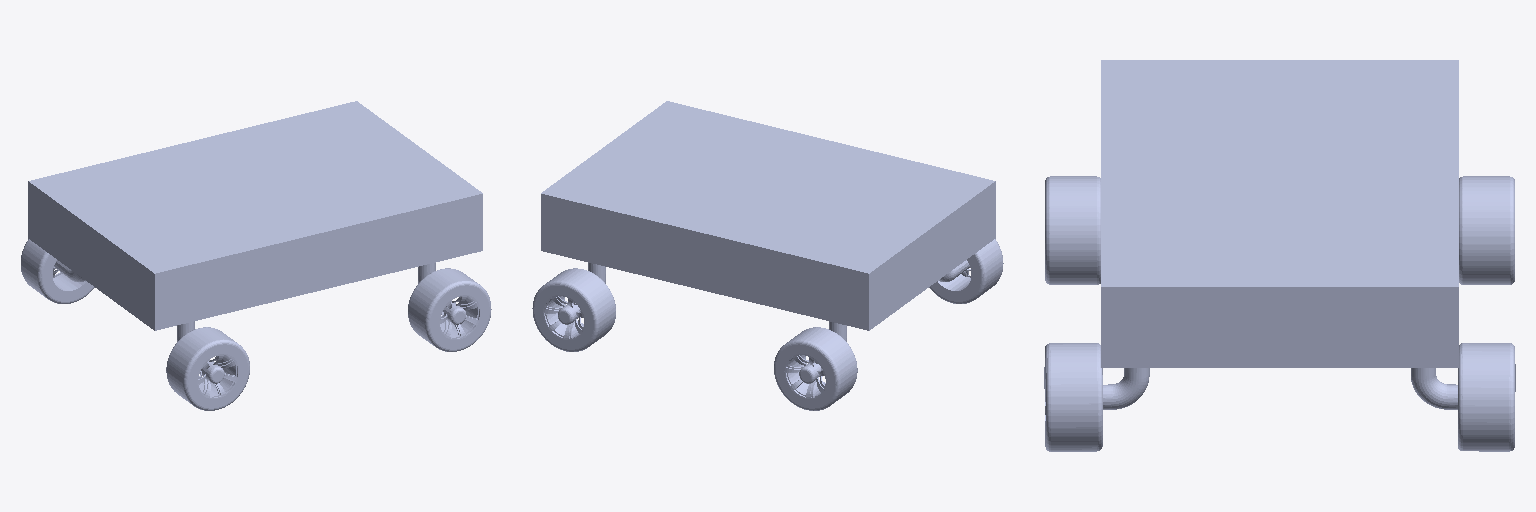
The robot description file, URDF, robot "warebot_v3":
<?xml version="1.0" encoding="utf-8"?>
<!-- This URDF was automatically created by SolidWorks to URDF Exporter! Originally created by [author] ([email redacted]) 
     Commit Version: 1.6.0-1-g15f4949  Build Version: 1.6.7594.29634
     For more information, please see http://wiki.ros.org/sw_urdf_exporter -->
<robot
  name="warebot_v3">

  <link name="dummy_link"/>
  <joint 
    name="dummy_joint"
    type="fixed">
    <parent link="dummy_link"/>
    <child link="chassis"/>
  </joint>

  <link
    name="chassis">
    <inertial>
      <origin
        xyz="1.1037613347761E-16 0.0635051315978042 1.11024456359132E-16"
        rpy="0 0 0" />
      <mass
        value="49.157010416797" />
      <inertia
        ixx="1.12311661391356"
        ixy="1.30727060789662E-20"
        ixz="2.31412048167835E-16"
        iyy="3.43549121757344"
        iyz="-2.81238691622772E-20"
        izz="2.44449761615106" />
    </inertial>
    <visual>
      <origin
        xyz="0 0 0"
        rpy="0 0 0" />
      <geometry>
        <mesh
          filename="package://gantry_assembly_v2/meshes_warebot/chassis.STL" />
      </geometry>
      <material
        name="">
        <color
          rgba="0.792156862745098 0.819607843137255 0.933333333333333 1" />
      </material>
    </visual>
    <collision>
      <origin
        xyz="0 0 0"
        rpy="0 0 0" />
      <geometry>
        <mesh
          filename="package://gantry_assembly_v2/meshes_warebot/chassis.STL" />
      </geometry>
    </collision>
  </link>
  <link
    name="FL_l_tube">
    <inertial>
      <origin
        xyz="-5.55111512312578E-17 0.0148002836453275 -0.0604712004643204"
        rpy="0 0 0" />
      <mass
        value="0.14194071579655" />
      <inertia
        ixx="0.000229149478932408"
        ixy="1.49607194308791E-19"
        ixz="-1.34889996850247E-19"
        iyy="0.000151692524544474"
        iyz="6.52289159453429E-05"
        izz="9.92694656968883E-05" />
    </inertial>
    <visual>
      <origin
        xyz="0 0 0"
        rpy="0 0 0" />
      <geometry>
        <mesh
          filename="package://gantry_assembly_v2/meshes_warebot/FL_l_tube.STL" />
      </geometry>
      <material
        name="">
        <color
          rgba="0.792156862745098 0.819607843137255 0.933333333333333 1" />
      </material>
    </visual>
    <collision>
      <origin
        xyz="0 0 0"
        rpy="0 0 0" />
      <geometry>
        <mesh
          filename="package://gantry_assembly_v2/meshes_warebot/FL_l_tube.STL" />
      </geometry>
    </collision>
  </link>
  <joint
    name="FL_steering"
    type="revolute">
    <origin
      xyz="0.2794 0.2032 0"
      rpy="0 0 -0.007573" />
    <parent
      link="chassis" />
    <child
      link="FL_l_tube" />
    <axis
      xyz="0 0 1" />
    <limit
      lower="-0.5"
      upper="0.5"
      effort="10"
      velocity="1" />
  </joint>
  <link
    name="FL_wheel">
    <inertial>
      <origin
        xyz="0.0411028122783708 -3.83577736240426E-09 4.17768467042556E-07"
        rpy="0 0 0" />
      <mass
        value="0.275264002606874" />
      <inertia
        ixx="0.000851891470975203"
        ixy="7.19021069992574E-11"
        ixz="-3.41421009668958E-09"
        iyy="0.000615421909910346"
        iyz="-5.15825319699796E-10"
        izz="0.000615421723011077" />
    </inertial>
    <visual>
      <origin
        xyz="0 0 0"
        rpy="0 0 0" />
      <geometry>
        <mesh
          filename="package://gantry_assembly_v2/meshes_warebot/FL_wheel.STL" />
      </geometry>
      <material
        name="">
        <color
          rgba="0.792156862745098 0.819607843137255 0.933333333333333 1" />
      </material>
    </visual>
    <collision>
      <origin
        xyz="0 0 0"
        rpy="0 0 0" />
      <geometry>
        <mesh
          filename="package://gantry_assembly_v2/meshes_warebot/FL_wheel.STL" />
      </geometry>
    </collision>
  </link>
  <joint
    name="FL_axle"
    type="continuous">
    <origin
      xyz="0 0.049027 -0.092456"
      rpy="1.7829 0 1.5708" />
    <parent
      link="FL_l_tube" />
    <child
      link="FL_wheel" />
    <axis
      xyz="1 0 0" />
  </joint>
  <link
    name="FR_l_tube">
    <inertial>
      <origin
        xyz="0 0.0148002836453276 -0.0604712004643204"
        rpy="0 0 0" />
      <mass
        value="0.14194071579655" />
      <inertia
        ixx="0.000229149478932408"
        ixy="8.15269211732264E-21"
        ixz="-1.45592007880557E-20"
        iyy="0.000151692524544474"
        iyz="6.52289159453429E-05"
        izz="9.92694656968883E-05" />
    </inertial>
    <visual>
      <origin
        xyz="0 0 0"
        rpy="0 0 0" />
      <geometry>
        <mesh
          filename="package://gantry_assembly_v2/meshes_warebot/FR_l_tube.STL" />
      </geometry>
      <material
        name="">
        <color
          rgba="0.792156862745098 0.819607843137255 0.933333333333333 1" />
      </material>
    </visual>
    <collision>
      <origin
        xyz="0 0 0"
        rpy="0 0 0" />
      <geometry>
        <mesh
          filename="package://gantry_assembly_v2/meshes_warebot/FR_l_tube.STL" />
      </geometry>
    </collision>
  </link>
  <joint
    name="FR_steering"
    type="revolute">
    <origin
      xyz="0.2794 -0.2032 0"
      rpy="0 0 -3.1291" />
    <parent
      link="chassis" />
    <child
      link="FR_l_tube" />
    <axis
      xyz="0 0 1" />
    <limit
      lower="-0.5"
      upper="0.5"
      effort="10"
      velocity="1" />
  </joint>
  <link
    name="FR_wheel">
    <inertial>
      <origin
        xyz="0.0431305701607207 -3.83577780649347E-09 4.17768443991551E-07"
        rpy="0 0 0" />
      <mass
        value="0.275264002606501" />
      <inertia
        ixx="0.000851891470974443"
        ixy="7.19021047027393E-11"
        ixz="-3.41420991737575E-09"
        iyy="0.0006154219099097"
        iyz="-5.15825319794573E-10"
        izz="0.00061542172301043" />
    </inertial>
    <visual>
      <origin
        xyz="0 0 0"
        rpy="0 0 0" />
      <geometry>
        <mesh
          filename="package://gantry_assembly_v2/meshes_warebot/FR_wheel.STL" />
      </geometry>
      <material
        name="">
        <color
          rgba="0.792156862745098 0.819607843137255 0.933333333333333 1" />
      </material>
    </visual>
    <collision>
      <origin
        xyz="0 0 0"
        rpy="0 0 0" />
      <geometry>
        <mesh
          filename="package://gantry_assembly_v2/meshes_warebot/FR_wheel.STL" />
      </geometry>
    </collision>
  </link>
  <joint
    name="FR_axle"
    type="continuous">
    <origin
      xyz="0 0.046999 -0.092456"
      rpy="0.056054 0 1.5708" />
    <parent
      link="FR_l_tube" />
    <child
      link="FR_wheel" />
    <axis
      xyz="1 0 0" />
  </joint>
  <link
    name="RL_l_tube">
    <inertial>
      <origin
        xyz="0 0.0148002836453275 -0.0604712004643204"
        rpy="0 0 0" />
      <mass
        value="0.14194071579655" />
      <inertia
        ixx="0.000229149478932408"
        ixy="2.85134999767632E-21"
        ixz="-8.71232048787394E-21"
        iyy="0.000151692524544474"
        iyz="6.52289159453429E-05"
        izz="9.92694656968883E-05" />
    </inertial>
    <visual>
      <origin
        xyz="0 0 0"
        rpy="0 0 0" />
      <geometry>
        <mesh
          filename="package://gantry_assembly_v2/meshes_warebot/RL_l_tube.STL" />
      </geometry>
      <material
        name="">
        <color
          rgba="0.792156862745098 0.819607843137255 0.933333333333333 1" />
      </material>
    </visual>
    <collision>
      <origin
        xyz="0 0 0"
        rpy="0 0 0" />
      <geometry>
        <mesh
          filename="package://gantry_assembly_v2/meshes_warebot/RL_l_tube.STL" />
      </geometry>
    </collision>
  </link>
  <joint
    name="RL_steering"
    type="fixed">
    <origin
      xyz="-0.2794 0.2032 0"
      rpy="0 0 0" />
    <parent
      link="chassis" />
    <child
      link="RL_l_tube" />
    <axis
      xyz="0 0 0" />
  </joint>
  <link
    name="RL_wheel">
    <inertial>
      <origin
        xyz="0.0411074735746797 4.05959945992684E-07 9.87001973762336E-08"
        rpy="0 0 0" />
      <mass
        value="0.27526400260683" />
      <inertia
        ixx="0.000851891684215684"
        ixy="-3.30999578626669E-09"
        ixz="-7.90615717446464E-10"
        iyy="0.000615421614267171"
        iyz="4.26776186601956E-10"
        izz="0.000615422031419858" />
    </inertial>
    <visual>
      <origin
        xyz="0 0 0"
        rpy="0 0 0" />
      <geometry>
        <mesh
          filename="package://gantry_assembly_v2/meshes_warebot/RL_wheel.STL" />
      </geometry>
      <material
        name="">
        <color
          rgba="0.792156862745098 0.819607843137255 0.933333333333333 1" />
      </material>
    </visual>
    <collision>
      <origin
        xyz="0 0 0"
        rpy="0 0 0" />
      <geometry>
        <mesh
          filename="package://gantry_assembly_v2/meshes_warebot/RL_wheel.STL" />
      </geometry>
    </collision>
  </link>
  <joint
    name="RL_axle"
    type="continuous">
    <origin
      xyz="0 0.049022 -0.092456"
      rpy="2.2415 0 1.5708" />
    <parent
      link="RL_l_tube" />
    <child
      link="RL_wheel" />
    <axis
      xyz="1 0 0" />
  </joint>
  <link
    name="RR_l_tube">
    <inertial>
      <origin
        xyz="0 0.0148002836453276 -0.0604712004643204"
        rpy="0 0 0" />
      <mass
        value="0.14194071579655" />
      <inertia
        ixx="0.000229149478932408"
        ixy="-2.41399252769946E-20"
        ixz="-7.41770358269228E-21"
        iyy="0.000151692524544474"
        iyz="6.52289159453429E-05"
        izz="9.92694656968882E-05" />
    </inertial>
    <visual>
      <origin
        xyz="0 0 0"
        rpy="0 0 0" />
      <geometry>
        <mesh
          filename="package://gantry_assembly_v2/meshes_warebot/RR_l_tube.STL" />
      </geometry>
      <material
        name="">
        <color
          rgba="0.792156862745098 0.819607843137255 0.933333333333333 1" />
      </material>
    </visual>
    <collision>
      <origin
        xyz="0 0 0"
        rpy="0 0 0" />
      <geometry>
        <mesh
          filename="package://gantry_assembly_v2/meshes_warebot/RR_l_tube.STL" />
      </geometry>
    </collision>
  </link>
  <joint
    name="RR_steering"
    type="fixed">
    <origin
      xyz="-0.2794 -0.2032 0"
      rpy="0 0 3.1416" />
    <parent
      link="chassis" />
    <child
      link="RR_l_tube" />
    <axis
      xyz="0 0 0" />
  </joint>
  <link
    name="RR_wheel">
    <inertial>
      <origin
        xyz="0.0411074735746949 2.81471280116907E-07 -3.08738005855291E-07"
        rpy="0 0 0" />
      <mass
        value="0.275264002606999" />
      <inertia
        ixx="0.00085189147097577"
        ixy="-2.33054081404338E-09"
        ixz="2.49611342112908E-09"
        iyy="0.000615422339452627"
        iyz="3.58955588370584E-11"
        izz="0.000615421293469637" />
    </inertial>
    <visual>
      <origin
        xyz="0 0 0"
        rpy="0 0 0" />
      <geometry>
        <mesh
          filename="package://gantry_assembly_v2/meshes_warebot/RR_wheel.STL" />
      </geometry>
      <material
        name="">
        <color
          rgba="0.792156862745098 0.819607843137255 0.933333333333333 1" />
      </material>
    </visual>
    <collision>
      <origin
        xyz="0 0 0"
        rpy="0 0 0" />
      <geometry>
        <mesh
          filename="package://gantry_assembly_v2/meshes_warebot/RR_wheel.STL" />
      </geometry>
    </collision>
  </link>
  <joint
    name="RR_axle"
    type="continuous">
    <origin
      xyz="0 0.049022 -0.092456"
      rpy="-1.9358 0 1.5708" />
    <parent
      link="RR_l_tube" />
    <child
      link="RR_wheel" />
    <axis
      xyz="1 0 0" />
  </joint>

  <transmission name="trans_1">
    <type>transmission_interface/SimpleTransmission</type>
    <joint name="FL_steering">
      <hardwareInterface>hardware_interface/EffortJointInterface</hardwareInterface>
    </joint>
    <actuator name="Fleft_steering">
      <mechanicalReduction>1</mechanicalReduction>
      <hardwareInterface>hardware_interface/EffortJointInterface</hardwareInterface>
    </actuator>
  </transmission>

  <transmission name="trans_2">
    <type>transmission_interface/SimpleTransmission</type>
    <joint name="FR_steering">
      <hardwareInterface>hardware_interface/EffortJointInterface</hardwareInterface>
    </joint>
    <actuator name="Fright_steering">
      <mechanicalReduction>1</mechanicalReduction>
      <hardwareInterface>hardware_interface/EffortJointInterface</hardwareInterface>
    </actuator>
  </transmission>

  <!-- <transmission name="trans_5">
    <type>transmission_interface/SimpleTransmission</type>
    <joint name="FR_axle">
      <hardwareInterface>hardware_interface/VelocityJointInterface</hardwareInterface>
    </joint>
    <actuator name="FR_drive">
      <mechanicalReduction>1</mechanicalReduction>
      <hardwareInterface>hardware_interface/VelocityJointInterface</hardwareInterface>
    </actuator>
  </transmission>

  <transmission name="trans_6">
    <type>transmission_interface/SimpleTransmission</type>
    <joint name="FL_axle">
      <hardwareInterface>hardware_interface/VelocityJointInterface</hardwareInterface>
    </joint>
    <actuator name="FL_drive">
      <mechanicalReduction>1</mechanicalReduction>
      <hardwareInterface>hardware_interface/VelocityJointInterface</hardwareInterface>
    </actuator>
  </transmission> -->

  <transmission name="trans_7">
    <type>transmission_interface/SimpleTransmission</type>
    <joint name="RR_axle">
      <hardwareInterface>hardware_interface/VelocityJointInterface</hardwareInterface>
    </joint>
    <actuator name="RR_drive">
      <mechanicalReduction>1</mechanicalReduction>
      <hardwareInterface>hardware_interface/VelocityJointInterface</hardwareInterface>
    </actuator>
  </transmission>

  <transmission name="trans_8">
    <type>transmission_interface/SimpleTransmission</type>
    <joint name="RL_axle">
      <hardwareInterface>hardware_interface/VelocityJointInterface</hardwareInterface>
    </joint>
    <actuator name="RL_drive">
      <mechanicalReduction>1</mechanicalReduction>
      <hardwareInterface>hardware_interface/VelocityJointInterface</hardwareInterface>
    </actuator>
  </transmission>

  <gazebo>
    <plugin name="gazebo_ros_control" filename="libgazebo_ros_control.so">
    </plugin>
  </gazebo>
</robot>

--- Render facts (derived) ---
The picture shows the robot from 3 angles, left to right: view 1: azimuth 30°, elevation 25°; view 2: azimuth 150°, elevation 25°; view 3: azimuth 270°, elevation 25°; orthographic projection.
Robot: warebot_v3 — 10 links, 9 joints (2 revolute, 4 continuous, 3 fixed); root link dummy_link; default pose: every joint at zero.
Visible links, largest first — view 1: chassis, RR_wheel, FR_wheel, RL_wheel; view 2: chassis, RL_wheel, FL_wheel, RR_wheel; view 3: chassis, FR_wheel, FL_wheel, RL_wheel, RR_wheel, FL_l_tube, FR_l_tube.
Boxes of the visible links, bbox=[...] form: chassis: bbox=[28, 101, 482, 330]; RR_wheel: bbox=[166, 327, 249, 410]; FR_wheel: bbox=[408, 268, 491, 351]; RL_wheel: bbox=[21, 239, 94, 303]; chassis: bbox=[541, 101, 995, 330]; RL_wheel: bbox=[774, 327, 857, 410]; FL_wheel: bbox=[532, 268, 615, 351]; RR_wheel: bbox=[929, 239, 1003, 303]; chassis: bbox=[1101, 60, 1458, 367]; FR_wheel: bbox=[1044, 343, 1102, 451]; FL_wheel: bbox=[1458, 343, 1515, 451]; RL_wheel: bbox=[1459, 176, 1514, 284]; RR_wheel: bbox=[1045, 176, 1100, 284]; FL_l_tube: bbox=[1411, 368, 1457, 409]; FR_l_tube: bbox=[1103, 368, 1149, 409].
Bounding box of the posed robot: 0.762 × 0.6684 × 0.2964 m (x, y, z).
9 mesh visuals loaded from 9 distinct referenced files (9 binary STL).